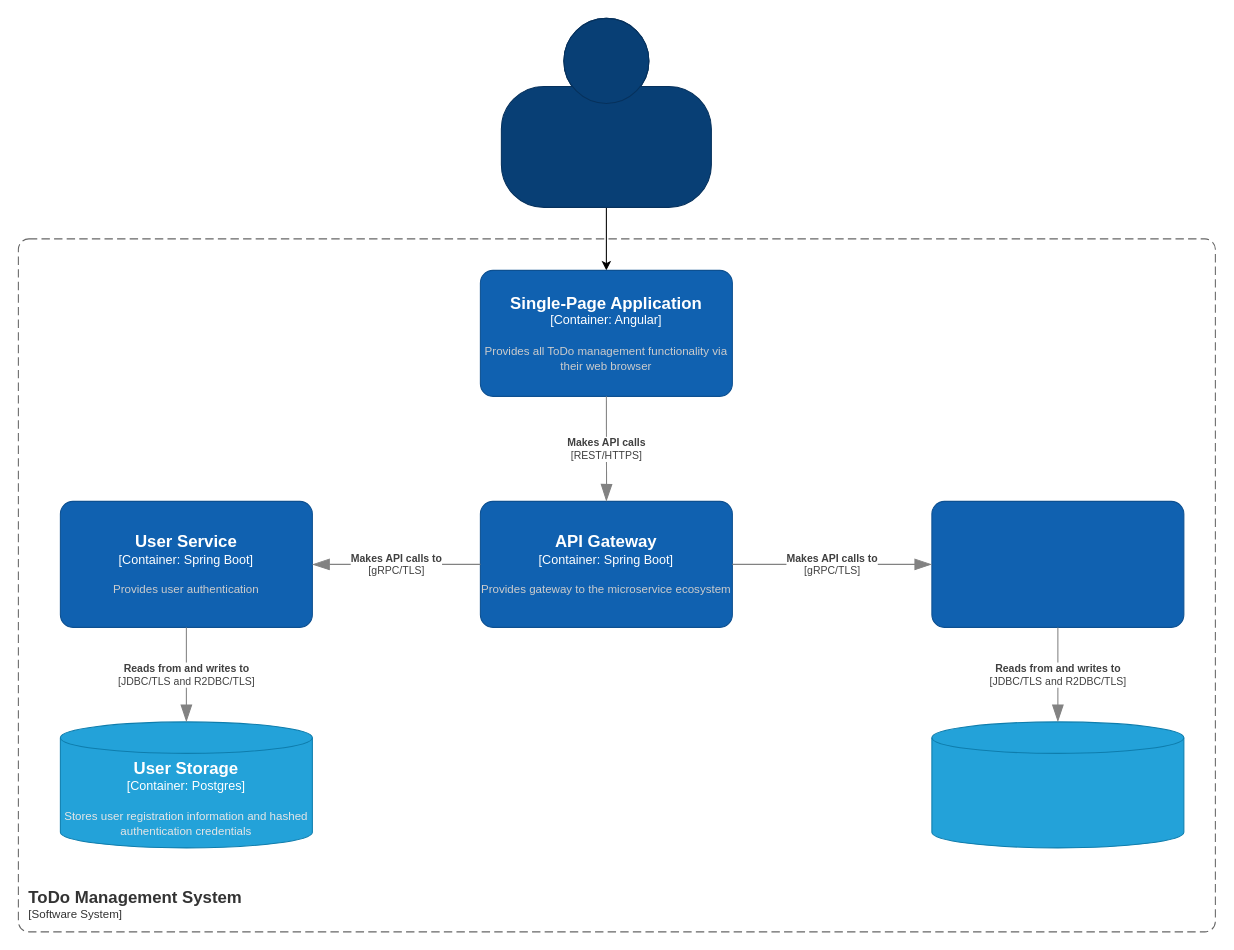
The diagram is 1234 pixels wide and 950 high, and some of its shapes have lost their labels. The shapes that lost their labels are listed below. From the top down, each one's centre as x and y in pixels, then its label:
At point (605, 112): "User [Person] Uses the ToDo system".
At point (1057, 563): "ToDo Service [Container: Spring Boot] Provides ToDo management functionality".
At point (1057, 784): "ToDo Storage [Container: Postgres] Storage of ToDo's".
